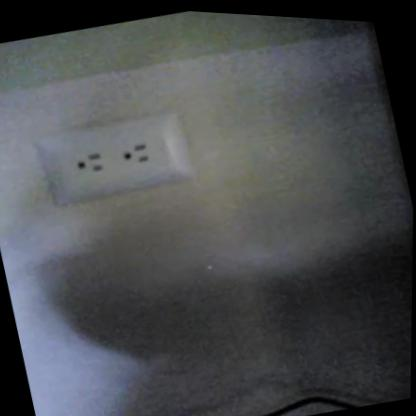OUTLET: (33, 100, 198, 214)
